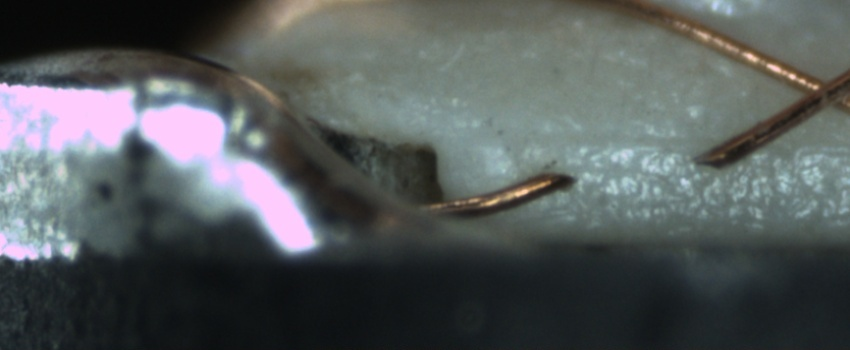CL: (778, 59, 849, 120)
DL: (557, 108, 850, 172)
